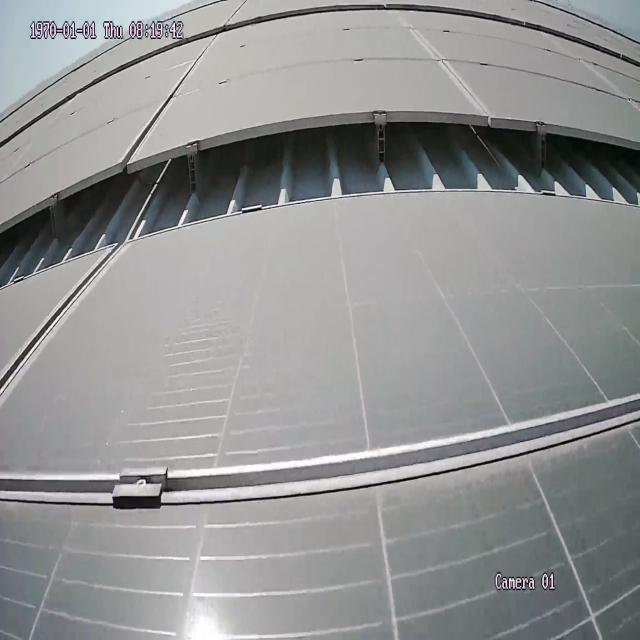interior panel: (0, 387, 640, 511), (1, 252, 124, 393), (124, 44, 215, 149), (398, 16, 493, 107)
outher panel: (0, 118, 640, 291)
